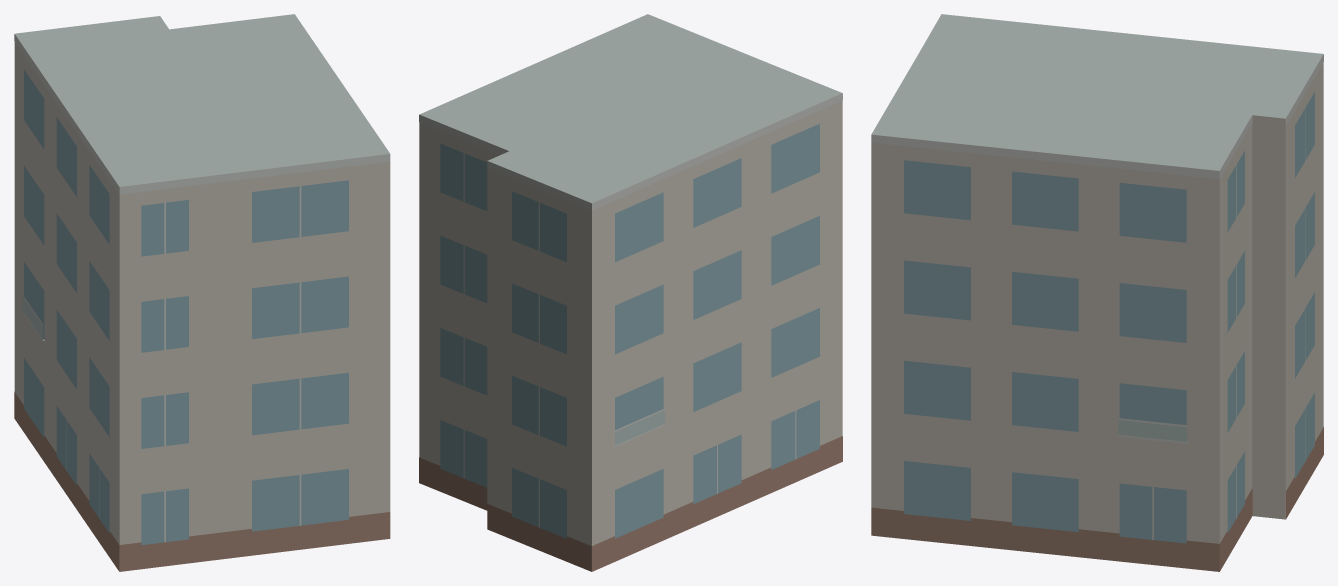
The model's file is residential-44ec5a58-7a47-459c-a0da-3604d0bd1457.glb.
3 views of the same model, side by side, from view 1: azimuth 30°, elevation 25°; view 2: azimuth 150°, elevation 25°; view 3: azimuth 270°, elevation 25° (orthographic). The views are drawn at different scales.
Visible parts, largest first — view 1: residential-44ec5a58-7a47-459c-a0da-3604d0bd1457.tmp; view 2: residential-44ec5a58-7a47-459c-a0da-3604d0bd1457.tmp; view 3: residential-44ec5a58-7a47-459c-a0da-3604d0bd1457.tmp.
Part boxes in pixels (bbox=[...]): residential-44ec5a58-7a47-459c-a0da-3604d0bd1457.tmp: bbox=[14, 14, 390, 571]; residential-44ec5a58-7a47-459c-a0da-3604d0bd1457.tmp: bbox=[419, 14, 842, 571]; residential-44ec5a58-7a47-459c-a0da-3604d0bd1457.tmp: bbox=[871, 14, 1323, 571].
Bounding box in the file's own units: 10.25 × 12.2 × 12.49.
